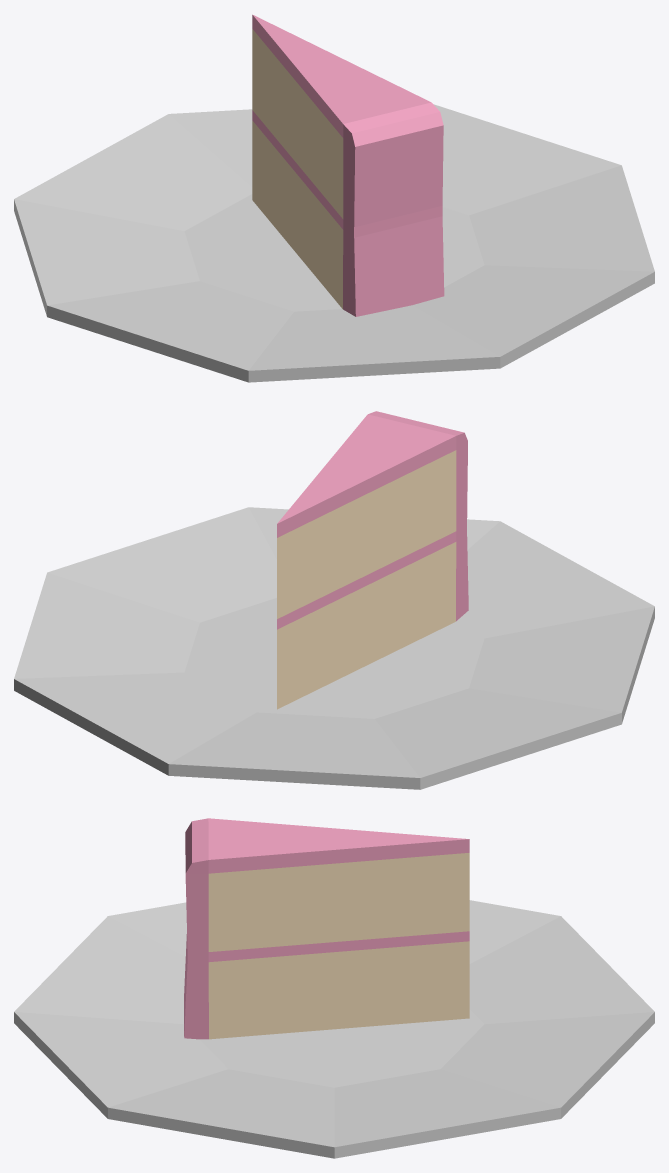
File: Slice_of_Cake_01.gltf
3 views of the same model, one above another, from view 1: azimuth 30°, elevation 25°; view 2: azimuth 150°, elevation 25°; view 3: azimuth 270°, elevation 25° (orthographic). The views are drawn at different scales.
Parts seen in each view (by area): view 1: node-0; view 2: node-0; view 3: node-0.
Part boxes in pixels (x1,y1,x2,y2): node-0: [14, 14, 654, 382]; node-0: [14, 411, 654, 789]; node-0: [14, 818, 654, 1158].
Bounding box in the file's own units: 10 × 3.44 × 10.
